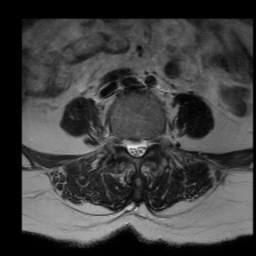CCS_normal: (133, 128, 141, 164)
LFS_normal: (148, 129, 157, 152)
LLS_normal: (141, 128, 148, 161)
RFS_normal: (117, 127, 125, 153)
RLS_normal: (125, 130, 133, 160)
